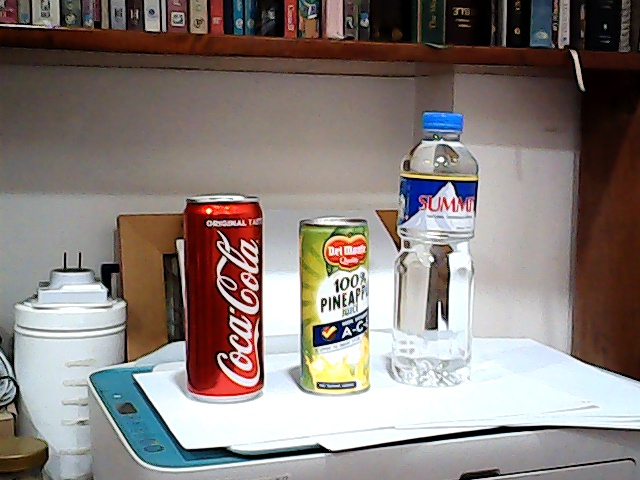Cola: (172, 192, 275, 407)
Pine Juice: (283, 210, 376, 401)
Summit Water: (385, 102, 488, 398)
